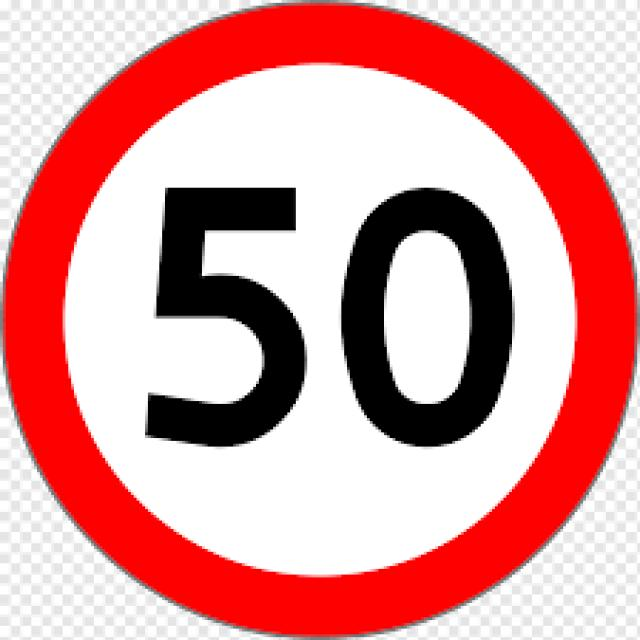Speed limit 50: (1, 1, 638, 638)
